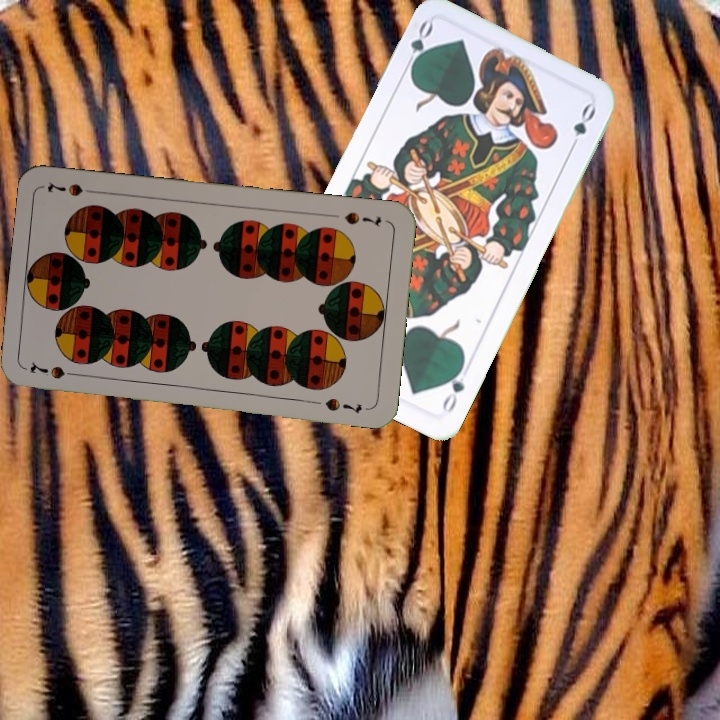GO: (400, 17, 436, 75), (437, 359, 467, 416)
S7: (26, 358, 83, 382), (340, 208, 384, 229)
